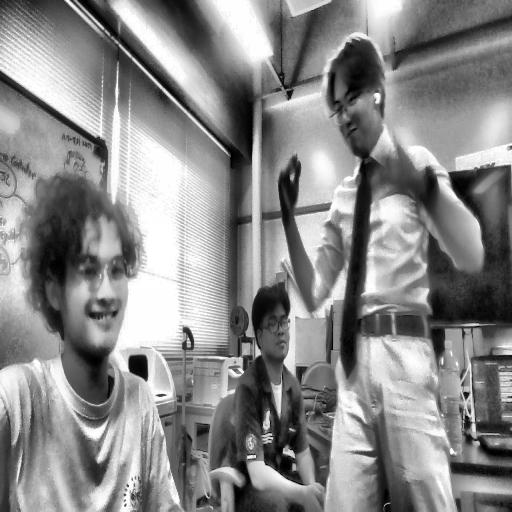Daifuku: (28, 177, 142, 361)
Not Daifuku: (325, 33, 391, 149), (254, 286, 293, 363)
